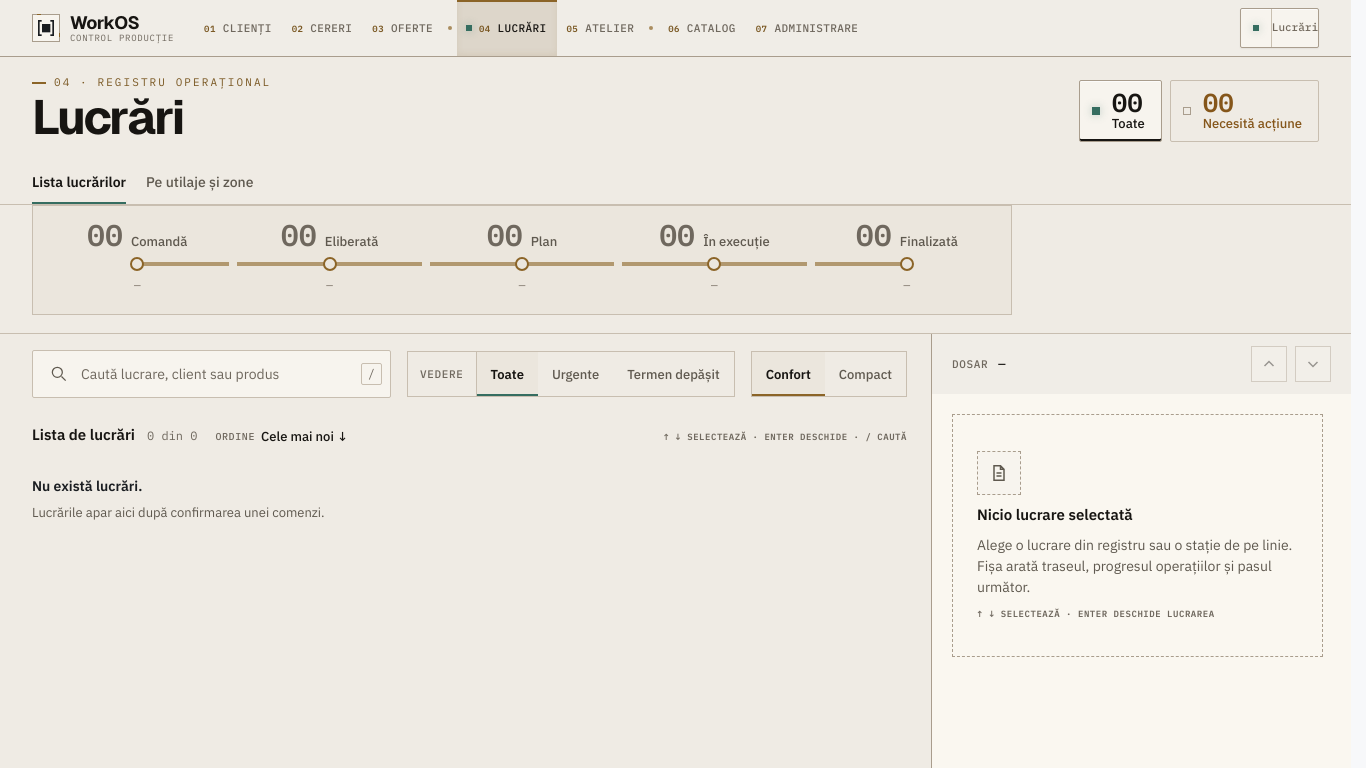
Test case: App navigation › opens the optional resource view inside jobs, retaining registry search and doing no task writes
Type "NORD" into the search field labelled "Caută" at (215, 374), box [81,351,349,397]
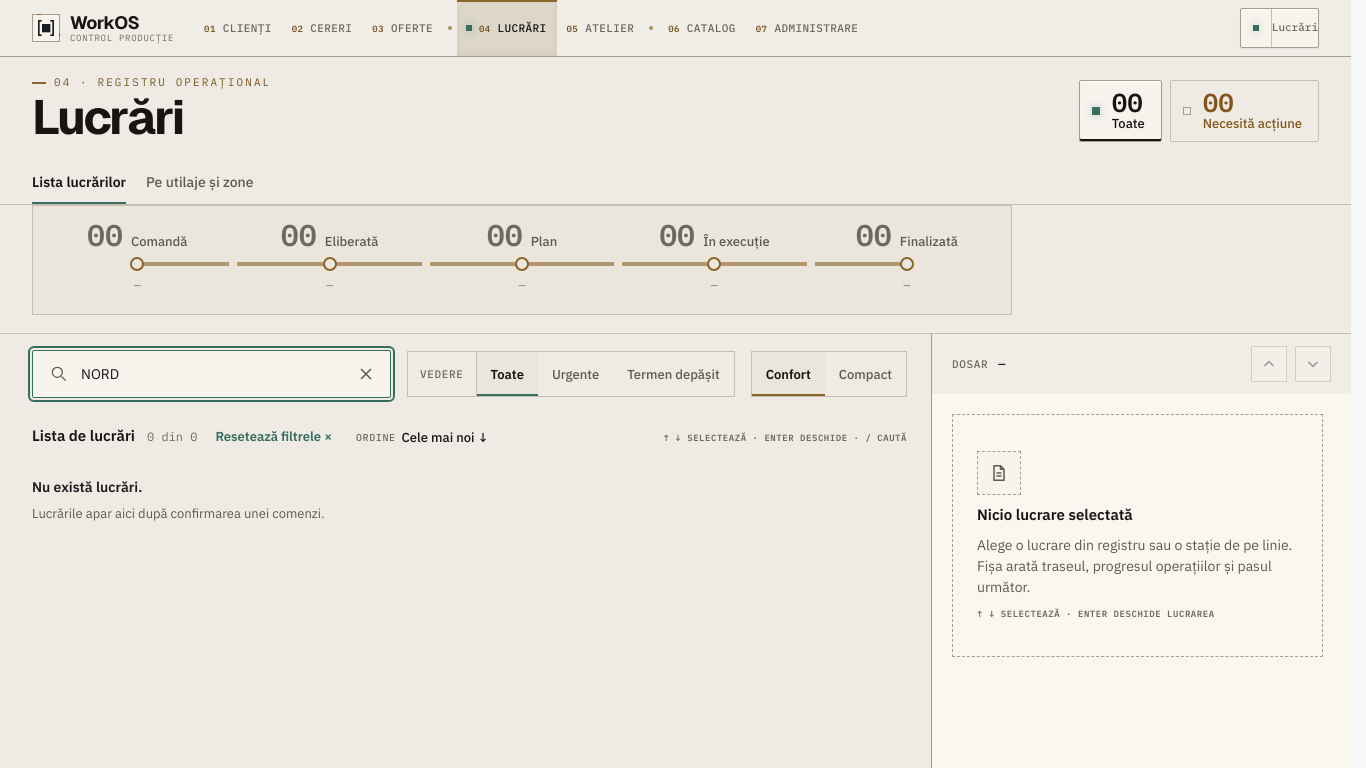
Click the link "Pe utilaje și zone" at (200, 182), box [146,173,253,191]
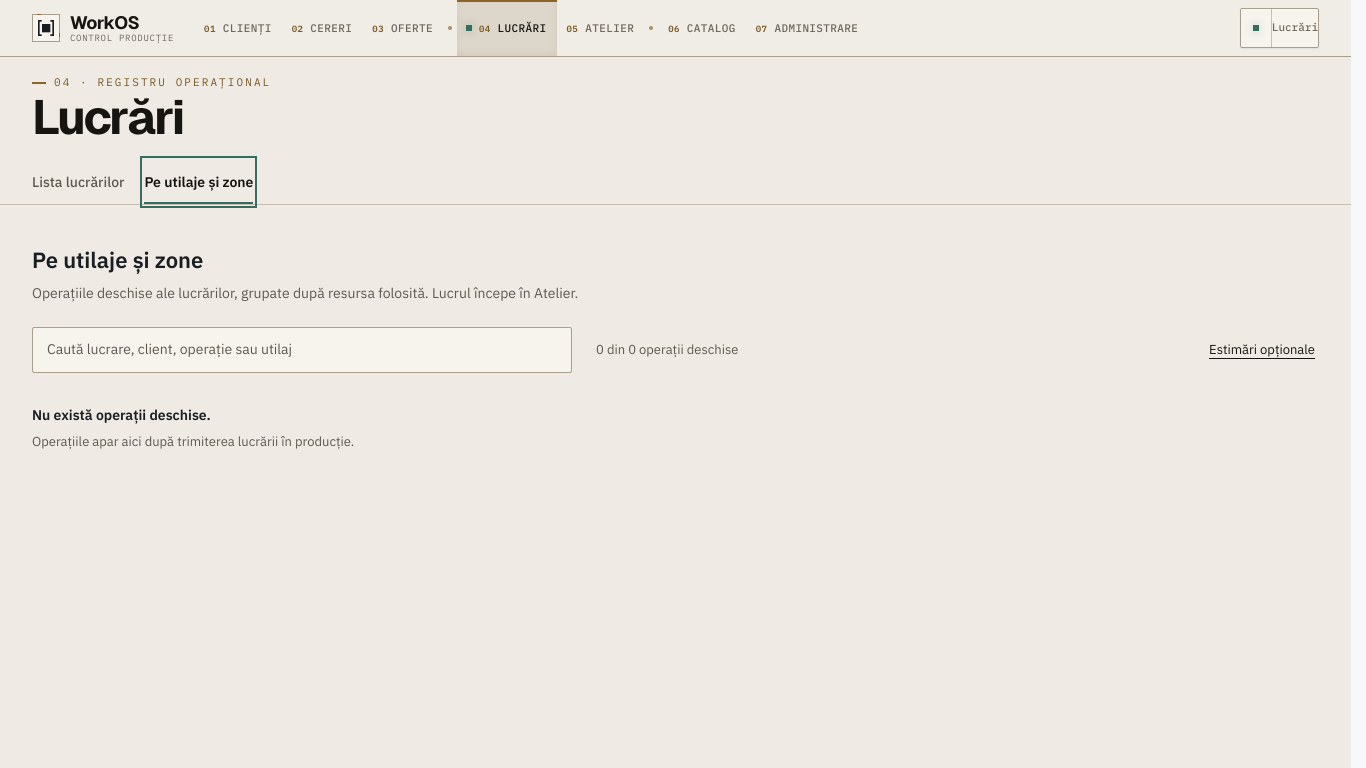
Expected: the heading "Pe utilaje și zone" is shown, [32,245,203,274]
Click the link "Lista lucrărilor" at (78, 182), box [32,173,124,191]
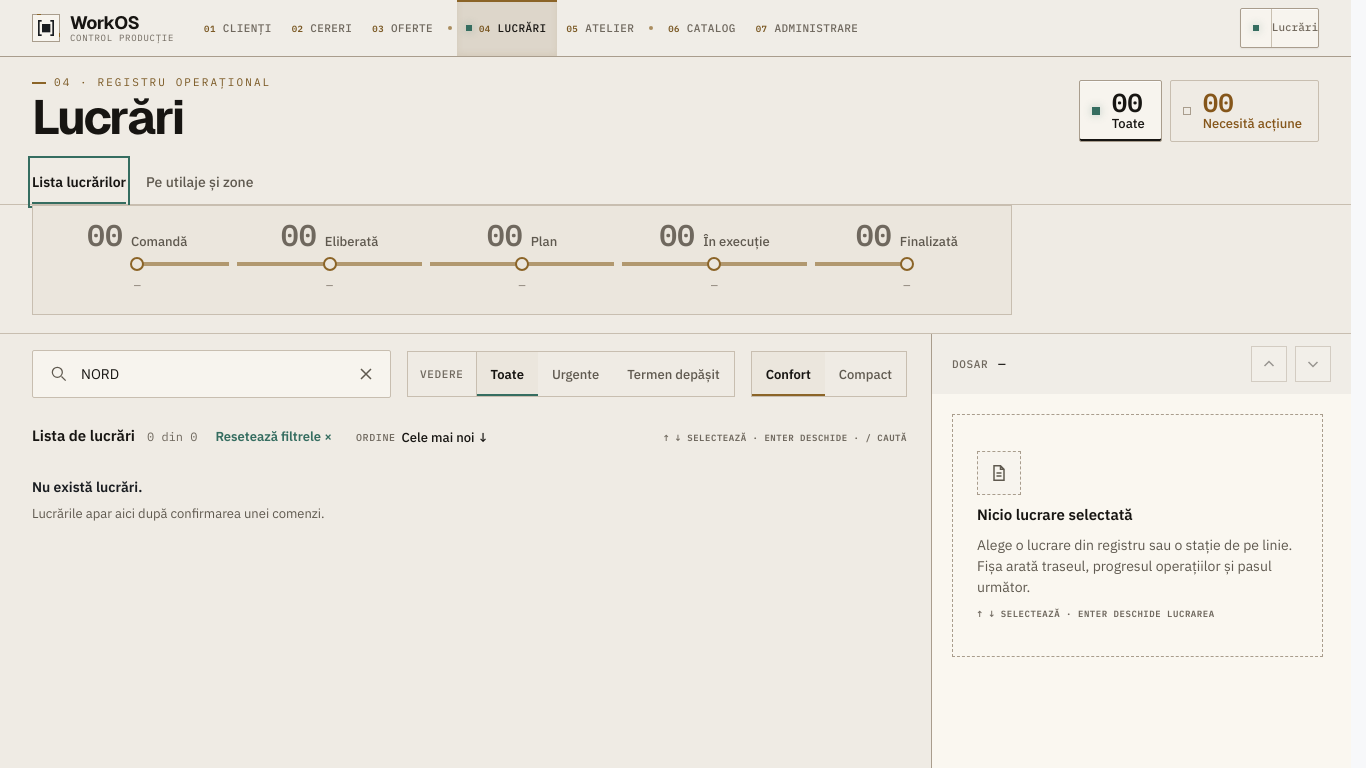
Expected: the search field named "Caută" holds "NORD", [81,351,338,397]
